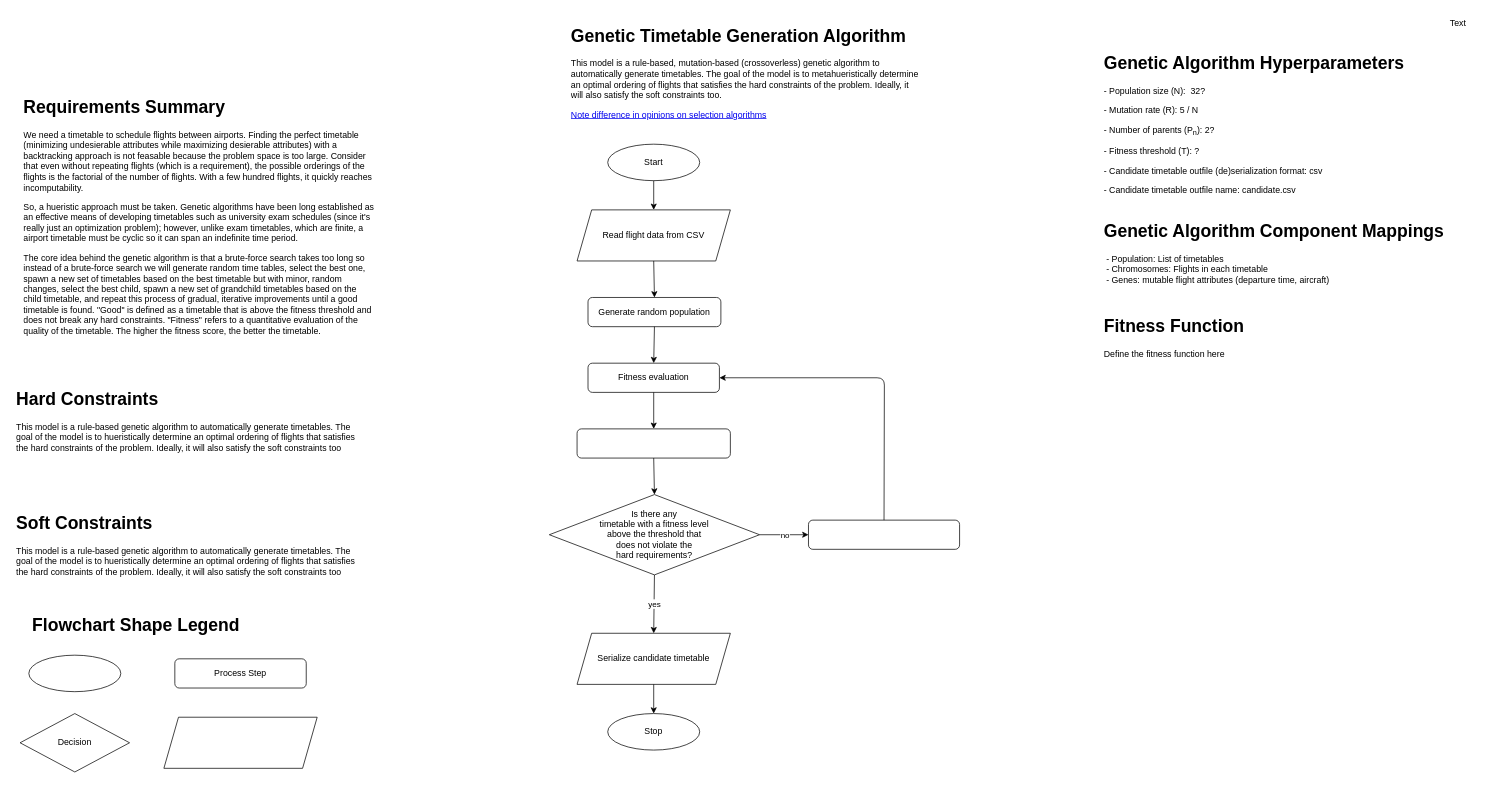
Some shapes in this 1492 by 785 pixel diagram are drawn without their labels. The shapes that lost their labels are listed below. From the top down, each one's centre as x and y in pixels, then its label:
At pixel 653 443: "Select timetable with highest fitness".
At pixel 884 534: "Generate new generation of mutated children from most fit parent".
At pixel 74 673: "Start / Stop".
At pixel 240 742: "Input / Output".
